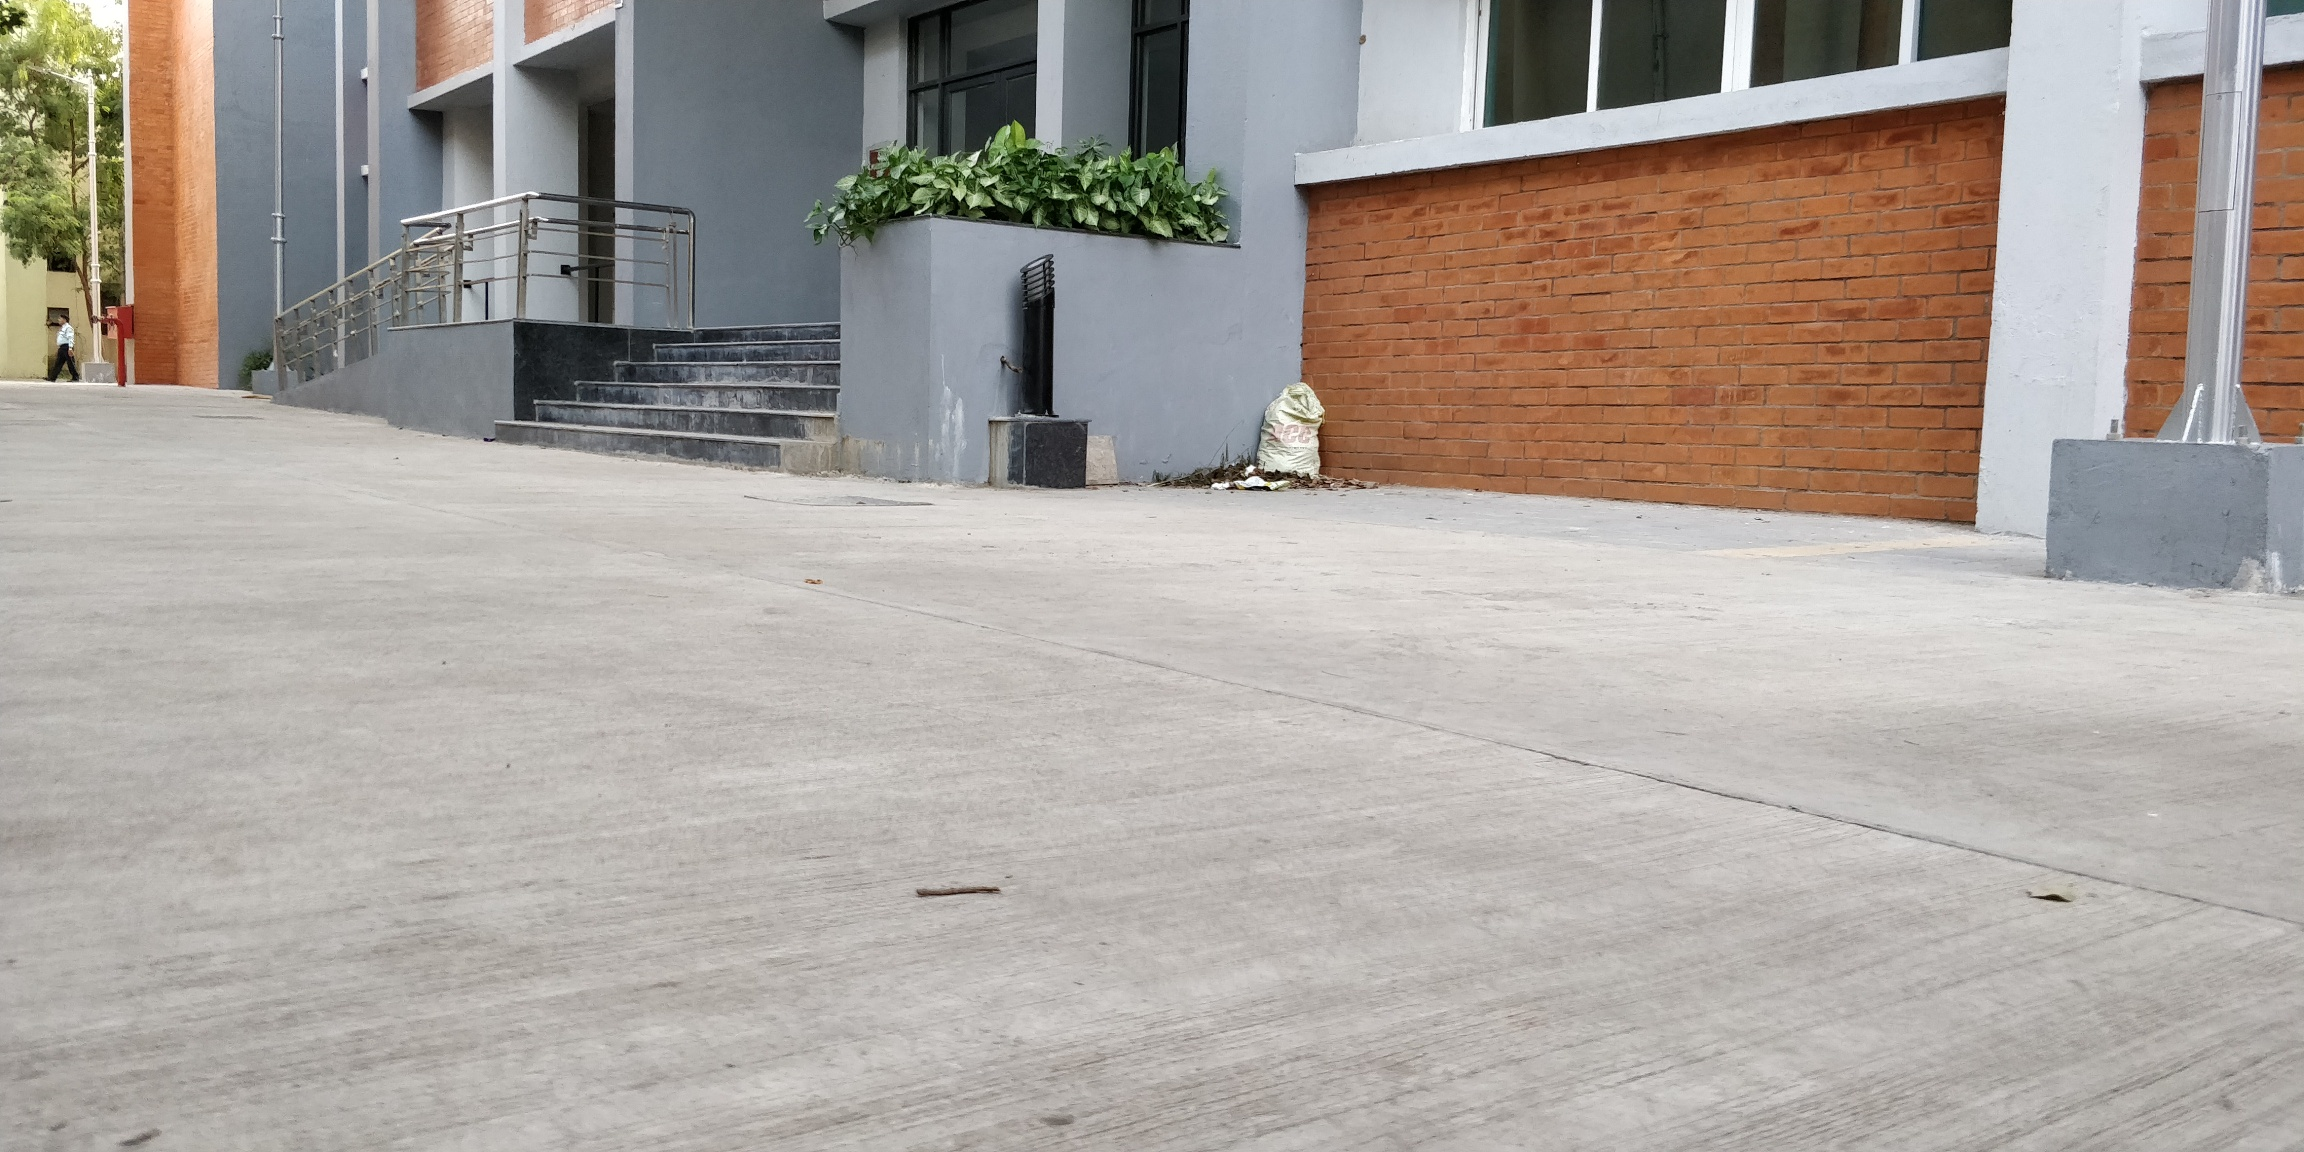stairs_up: (520, 312, 845, 461)
